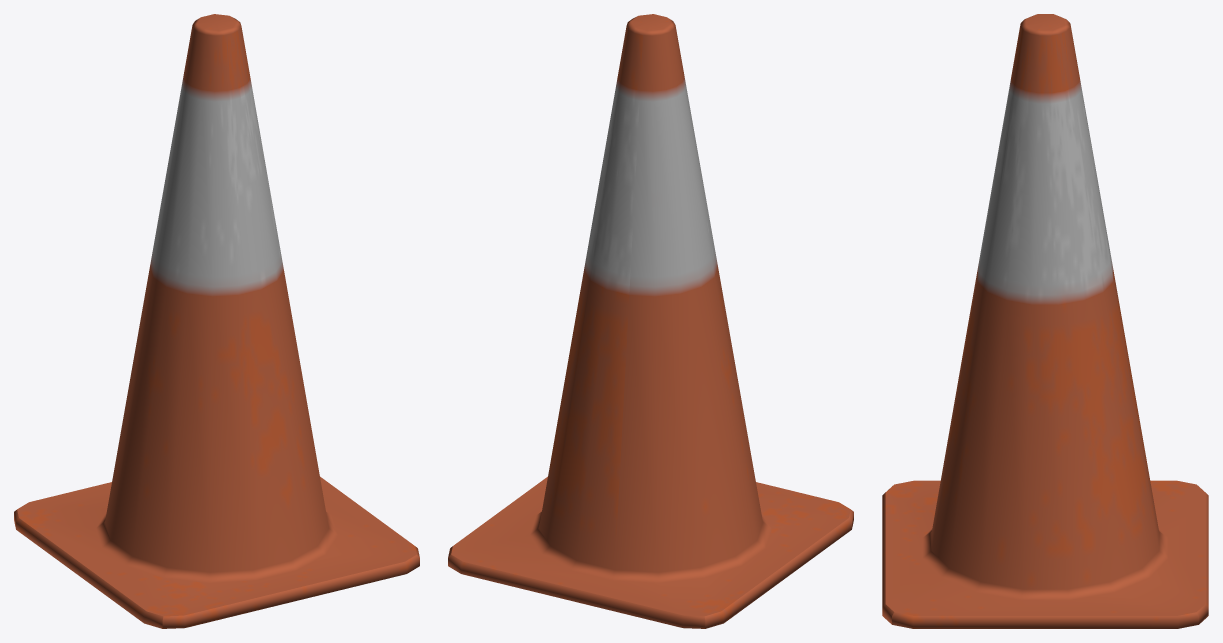
Rendered from TrafficCone01.fbx.
3 views of the same model, side by side, from view 1: azimuth 30°, elevation 25°; view 2: azimuth 150°, elevation 25°; view 3: azimuth 270°, elevation 25° (orthographic). The views are drawn at different scales.
Parts seen in each view (by area): view 1: TrafficCone01; view 2: TrafficCone01; view 3: TrafficCone01.
Part boxes in pixels (bbox=[...]): TrafficCone01: bbox=[14, 14, 419, 628]; TrafficCone01: bbox=[448, 14, 853, 628]; TrafficCone01: bbox=[882, 14, 1208, 628].
Size of the model in its own units: 27.51 by 27.51 by 50.
